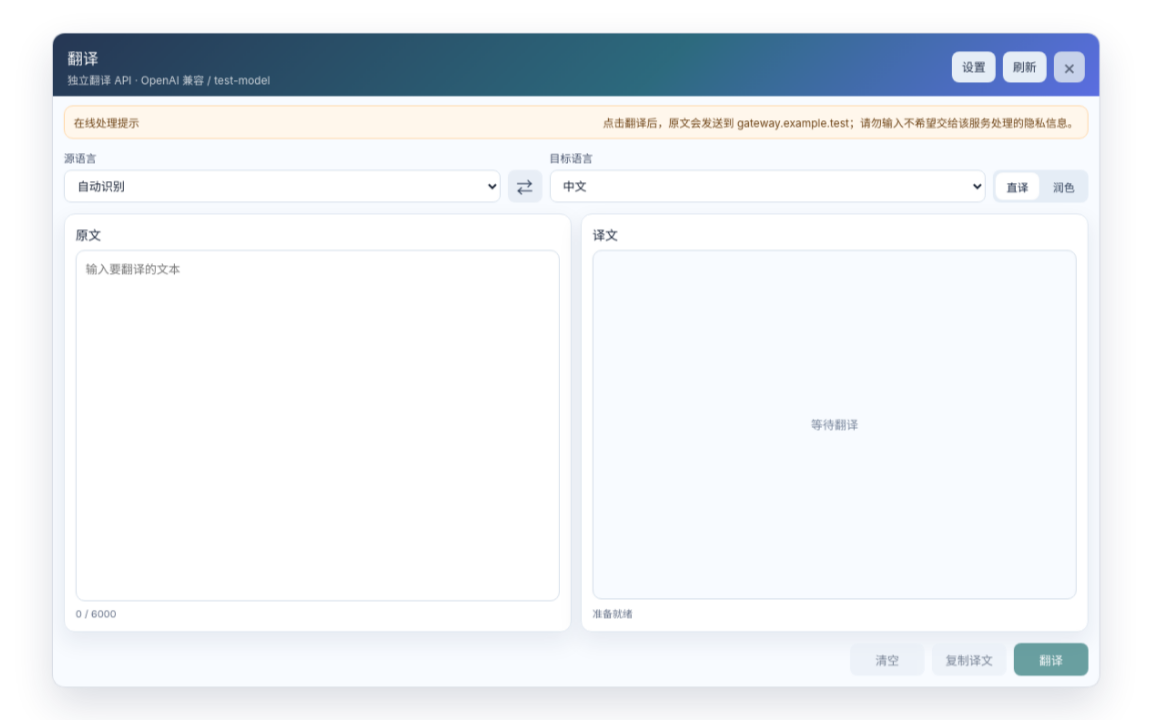
it: TranslatorWindow › translates with independent API and global AI disabled in light
This screenshot has width=1152, height=720.
Check: the text "独立翻译 API · OpenAI 兼容 / test-model" is shown, box [67, 72, 270, 87]
Step 1. Type "测试原文" into the text box labelled "原文 0 / 6000" → (318, 426), box [76, 250, 560, 601]
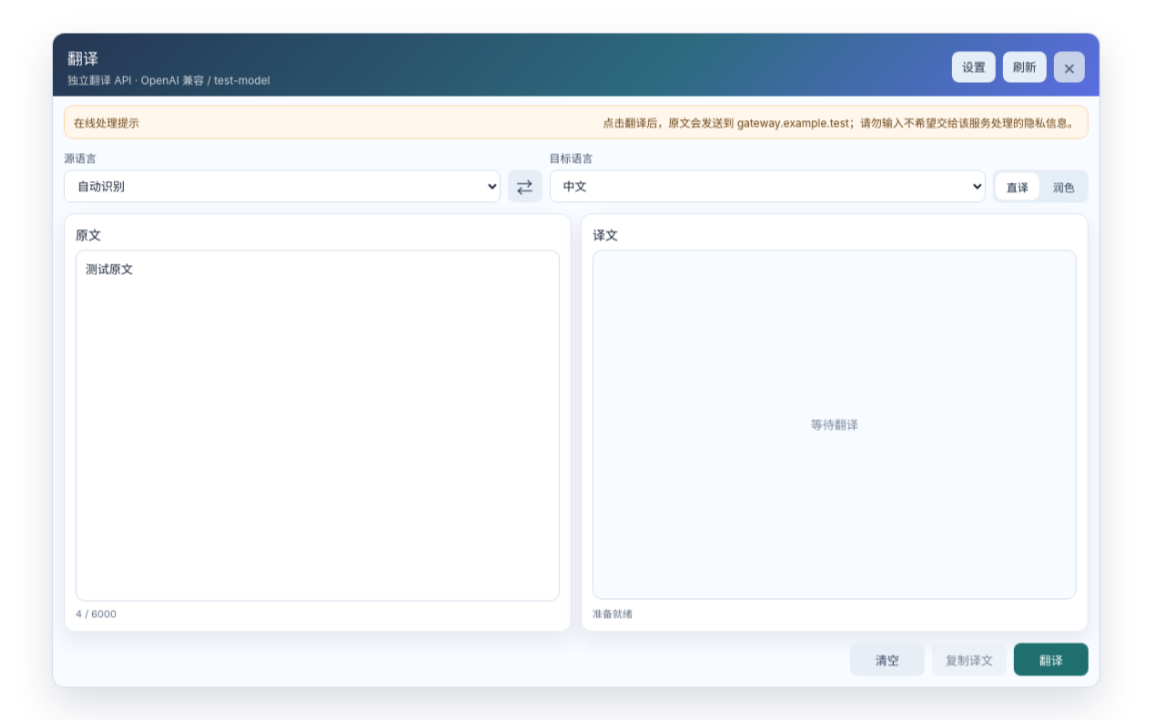
Step 2. Click the button with class "translator-primary-button" → (1051, 659), box [1014, 643, 1088, 676]
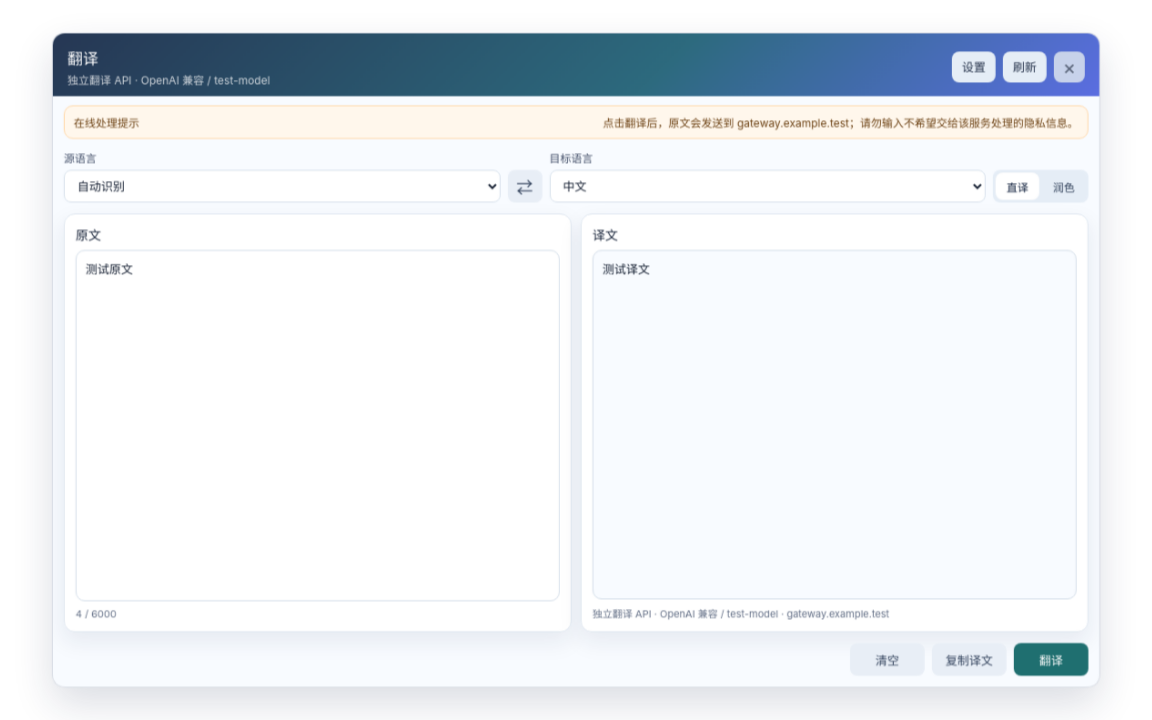
Check: the text with class "translator-output" reads "测试译文", box [602, 262, 650, 276]
Check: the message "独立翻译 API · OpenAI 兼容 / test-model · gateway.example.test" is shown, box [592, 608, 889, 620]
Step 3. Click the button with class "translator-ghost-button" showing "清空" → (887, 659), box [850, 643, 924, 676]
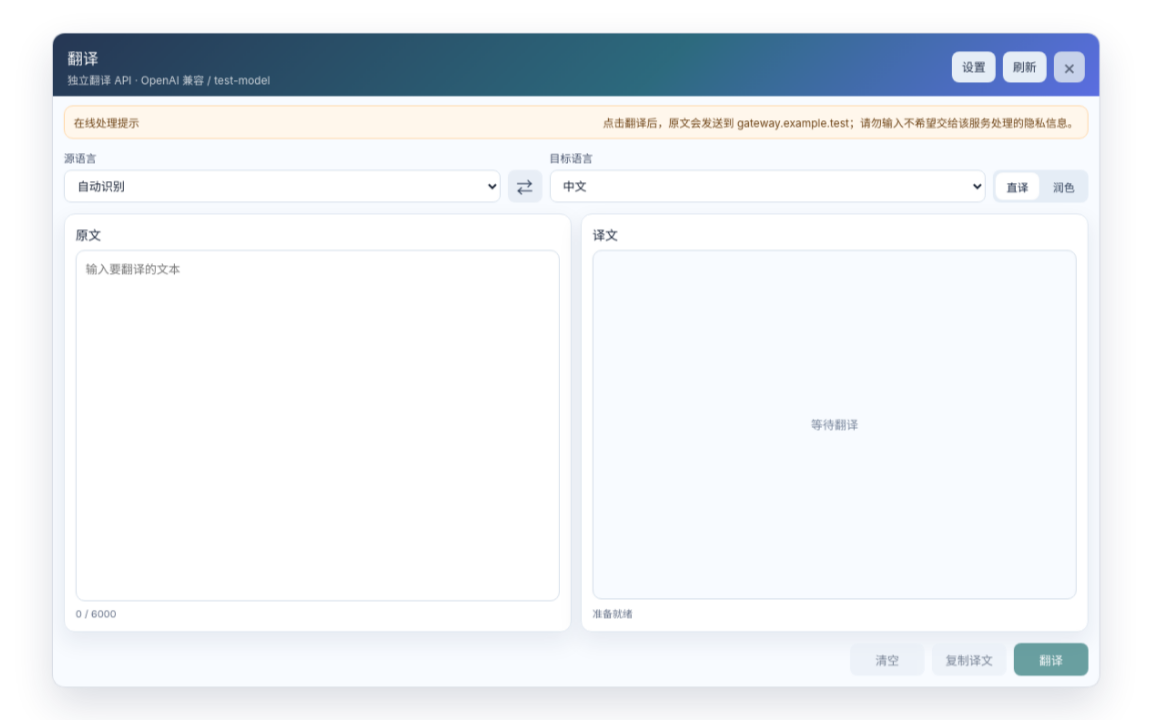
Check: the text box labelled "原文 0 / 6000" is empty, box [76, 250, 560, 601]
